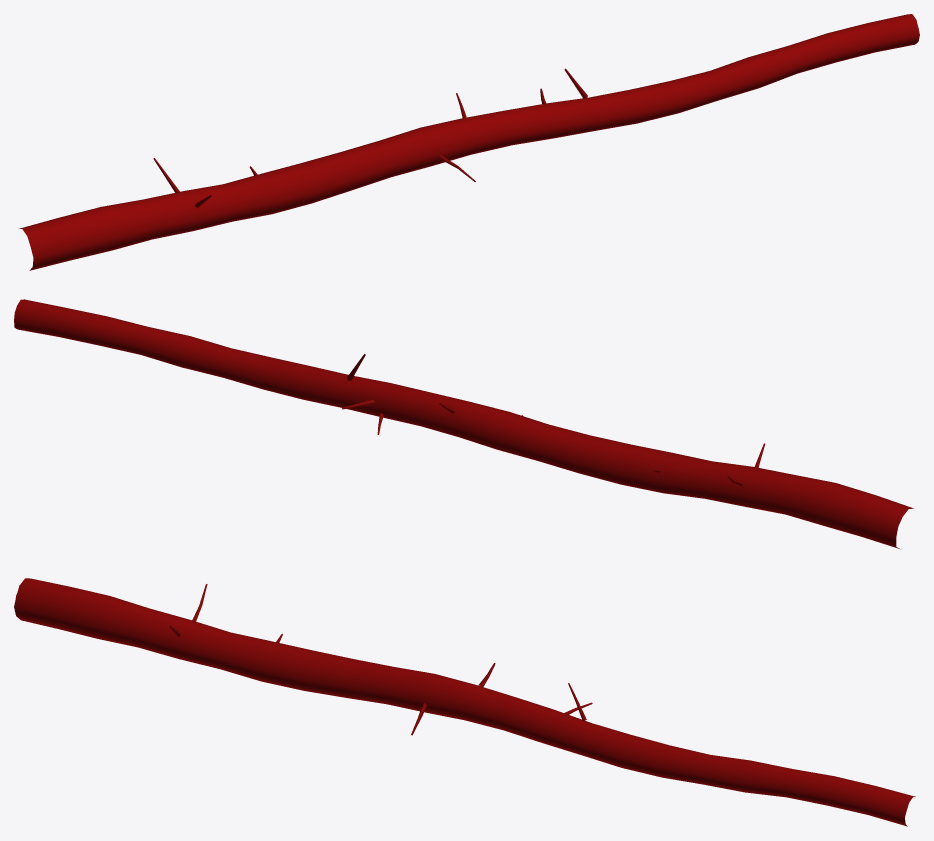
File: log_pine.glb
3 renders of one model, top to bottom at view 1: azimuth 30°, elevation 25°; view 2: azimuth 150°, elevation 25°; view 3: azimuth 330°, elevation 25°, orthographic.
Visible parts, largest first — view 1: LOD0; view 2: LOD0; view 3: LOD0.
Part boxes in pixels (x1,y1,x2,y2): LOD0: (19, 14, 919, 270); LOD0: (14, 299, 913, 549); LOD0: (14, 578, 915, 826).
Size of what is drawn, in the model's own units: 11.02 by 0.7981 by 1.26.
